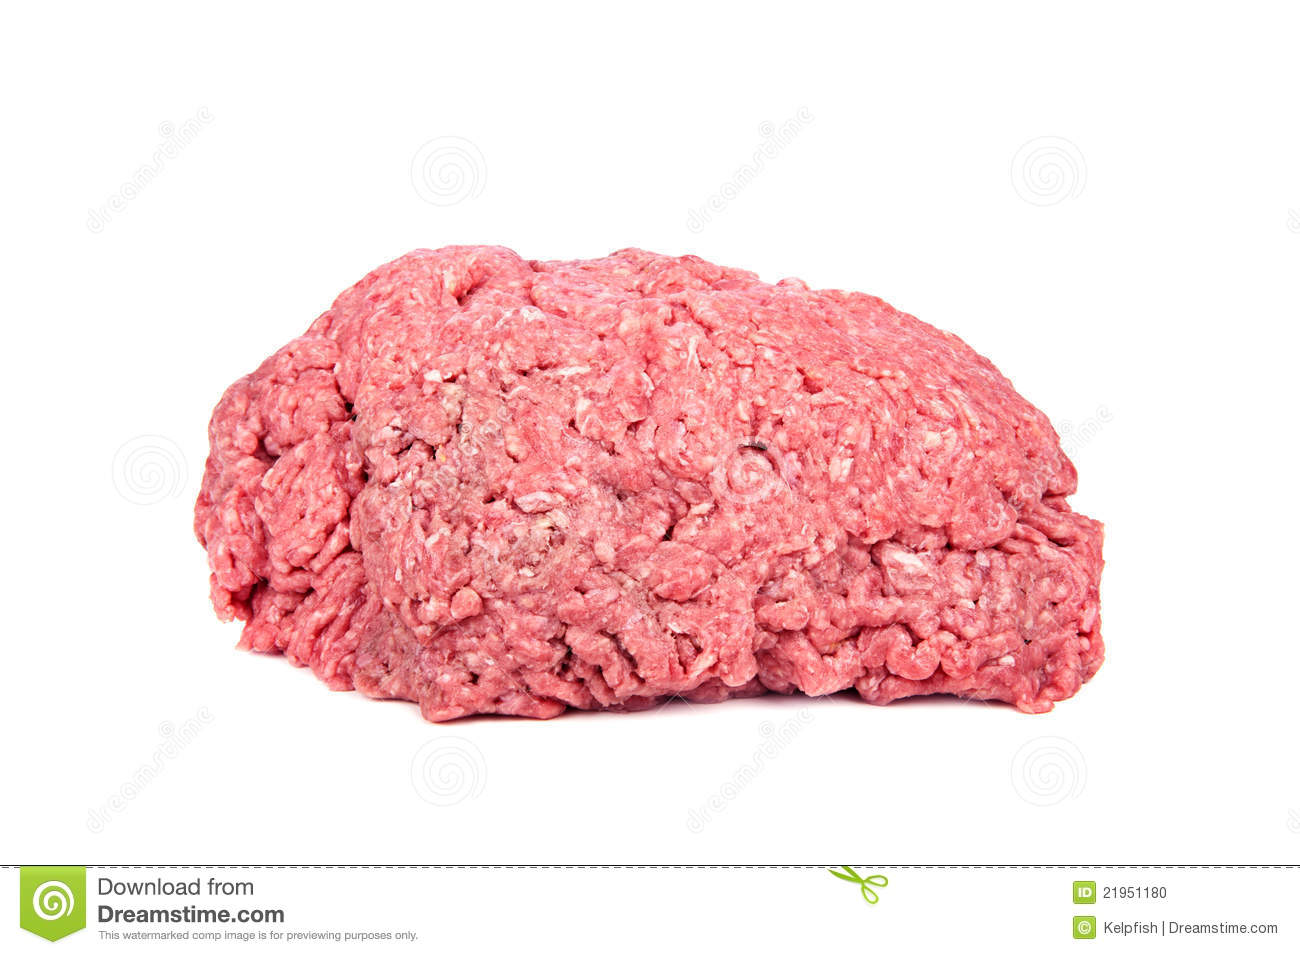ground_beef: (216, 243, 1156, 717)
